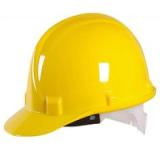Helmet: (2, 11, 158, 137)
